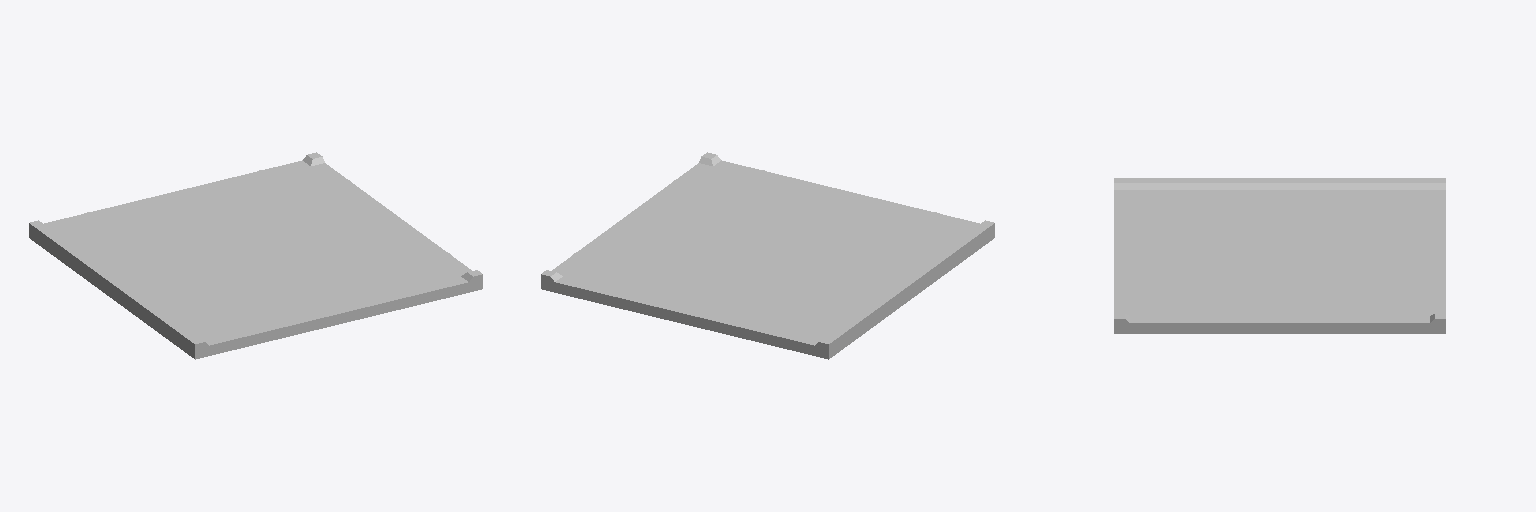
The model's file is road_t_split.obj.
3 renders of one model, left to right at view 1: azimuth 30°, elevation 25°; view 2: azimuth 150°, elevation 25°; view 3: azimuth 270°, elevation 25°, orthographic.
Parts seen in each view (by area): view 1: road_tsplit; view 2: road_tsplit; view 3: road_tsplit.
Part boxes in pixels (left/top/right/bottom): road_tsplit: left=29, top=152, right=482, bottom=359; road_tsplit: left=541, top=152, right=994, bottom=359; road_tsplit: left=1114, top=178, right=1445, bottom=333.
Size of the model in its own units: 2 by 0.1 by 2.